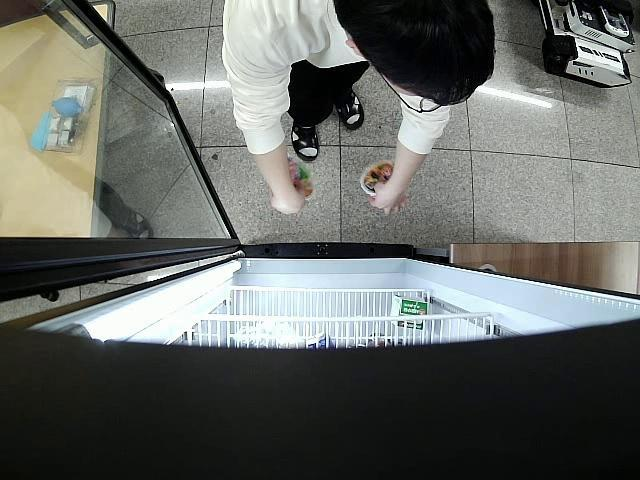09_yukGaeJang: (282, 152, 318, 202), (358, 157, 398, 201)
